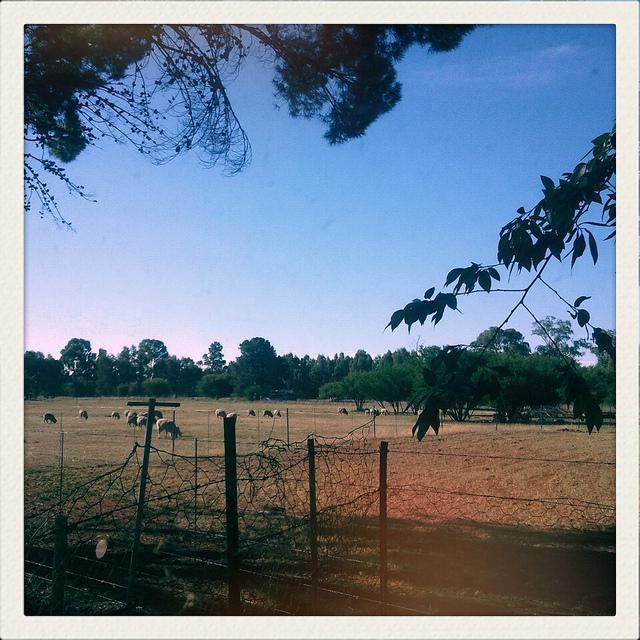cow: (154, 417, 181, 438), (363, 407, 372, 415), (272, 408, 280, 416), (416, 409, 422, 417)
